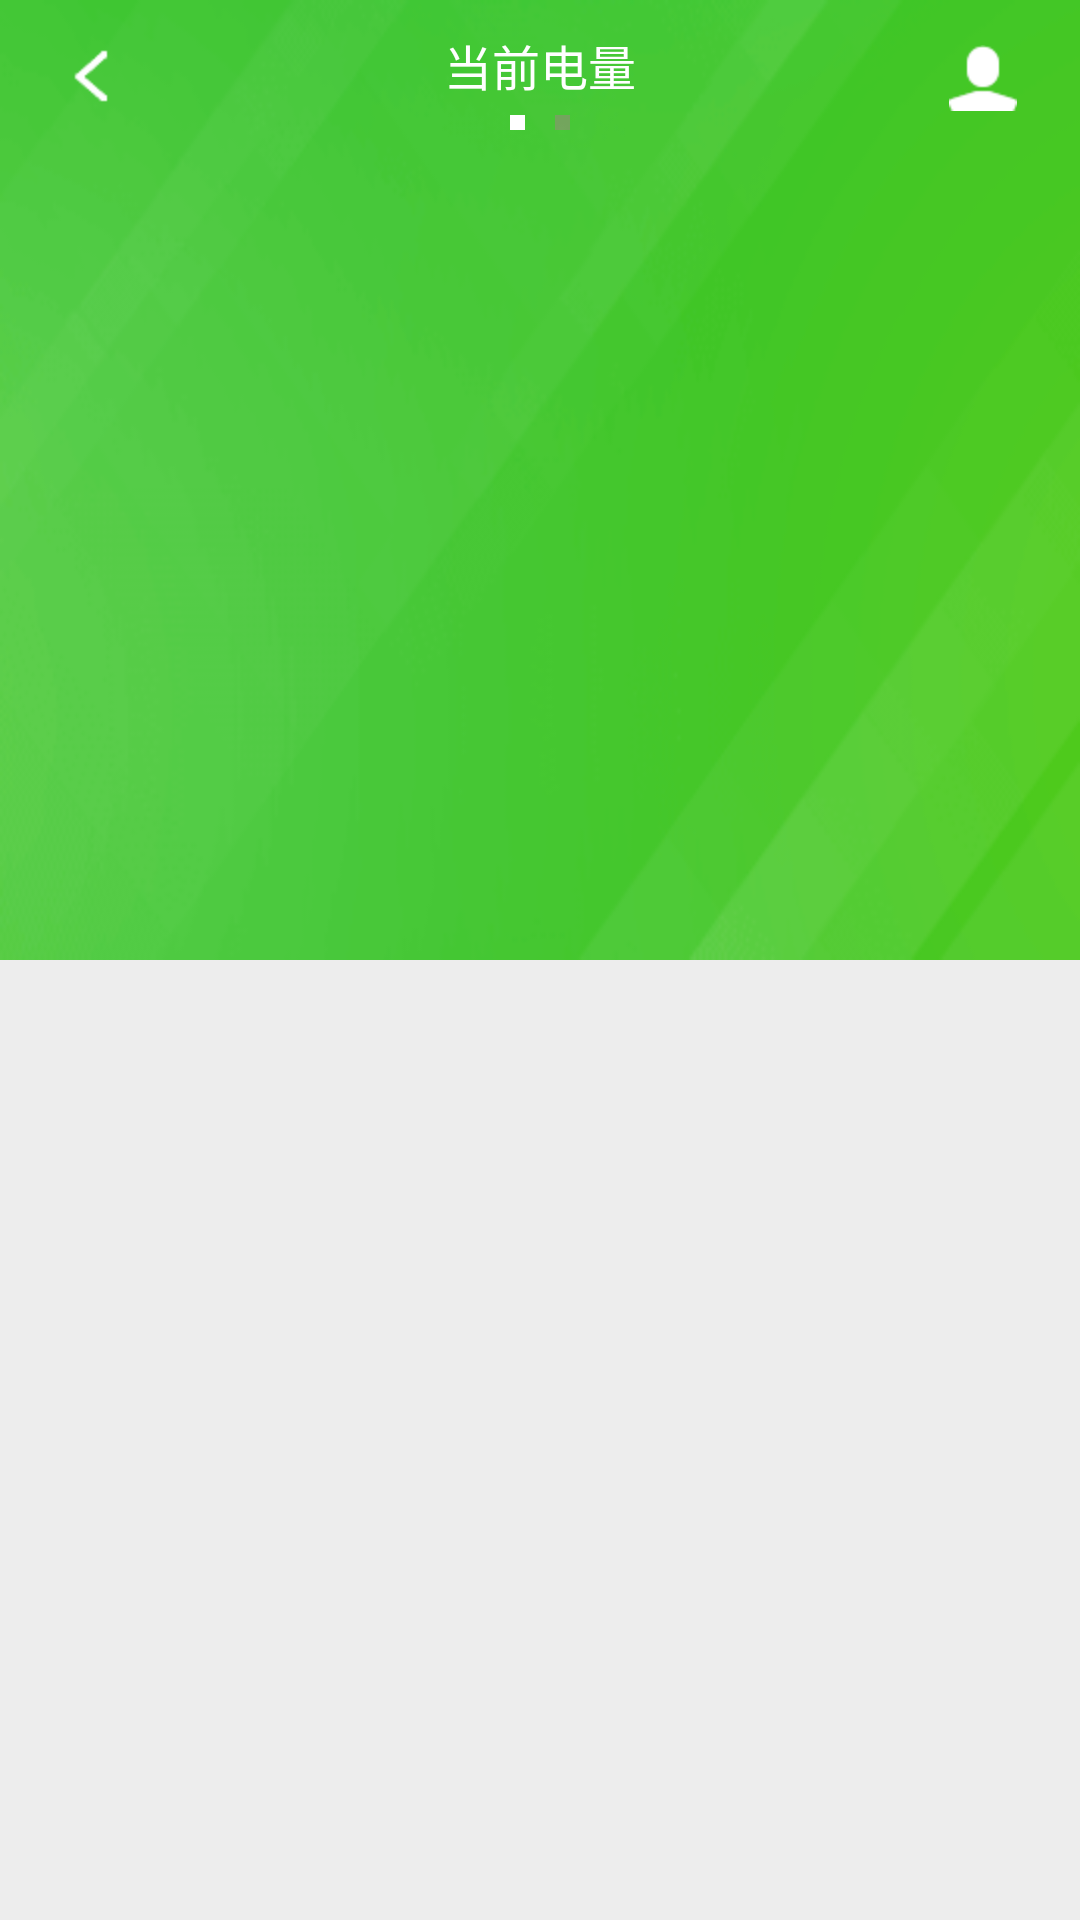

Where icons sit on this 1080px x 1920px app screen, as detection(x1, y1, x2, y2):
back: detection(74, 50, 108, 102)
head: detection(949, 45, 1017, 111)
